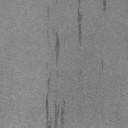red iron: (54, 104, 64, 128), (78, 0, 82, 46), (46, 93, 51, 128), (55, 32, 60, 64), (103, 0, 106, 12), (47, 78, 50, 87)
